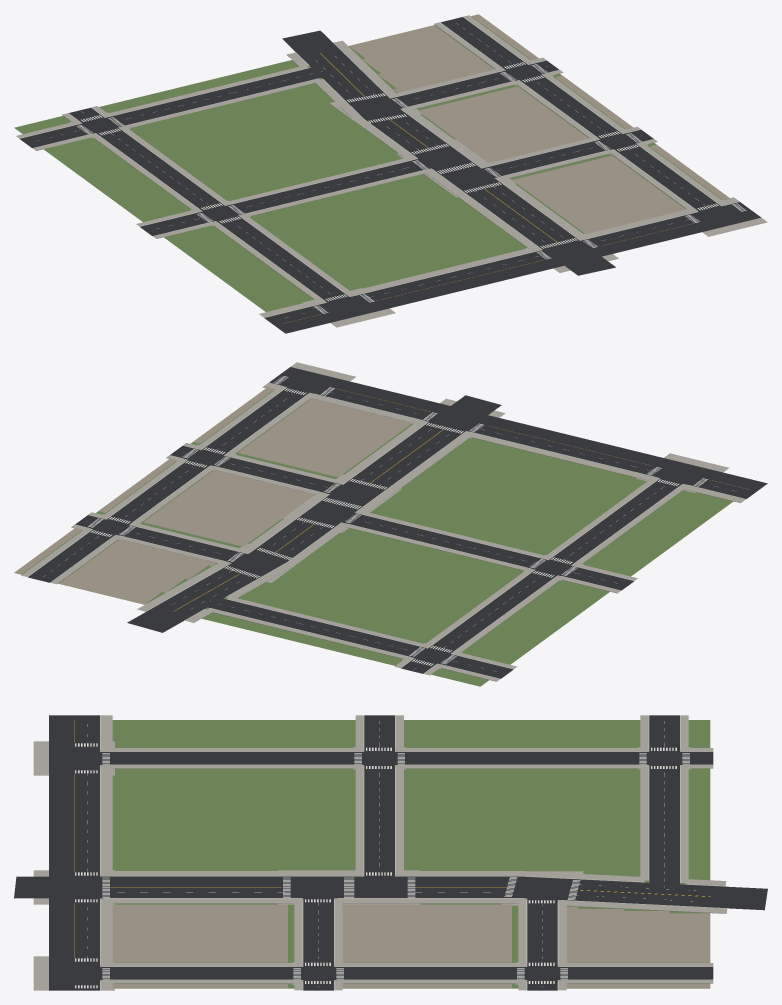
Rendered from Ground_2_4.fbx.
The picture shows the model from 3 angles, top to bottom: view 1: azimuth 30°, elevation 25°; view 2: azimuth 150°, elevation 25°; view 3: azimuth 270°, elevation 25°; orthographic projection. The views are drawn at different scales.
Parts seen in each view (by area): view 1: Ground_2_4; view 2: Ground_2_4; view 3: Ground_2_4.
Boxes of the visible parts, left/top/right/bottom form: Ground_2_4: left=14, top=14, right=767, bottom=333; Ground_2_4: left=14, top=362, right=767, bottom=686; Ground_2_4: left=14, top=715, right=767, bottom=990.
Bounding box in the file's own units: 256 × 0.14 × 296.
